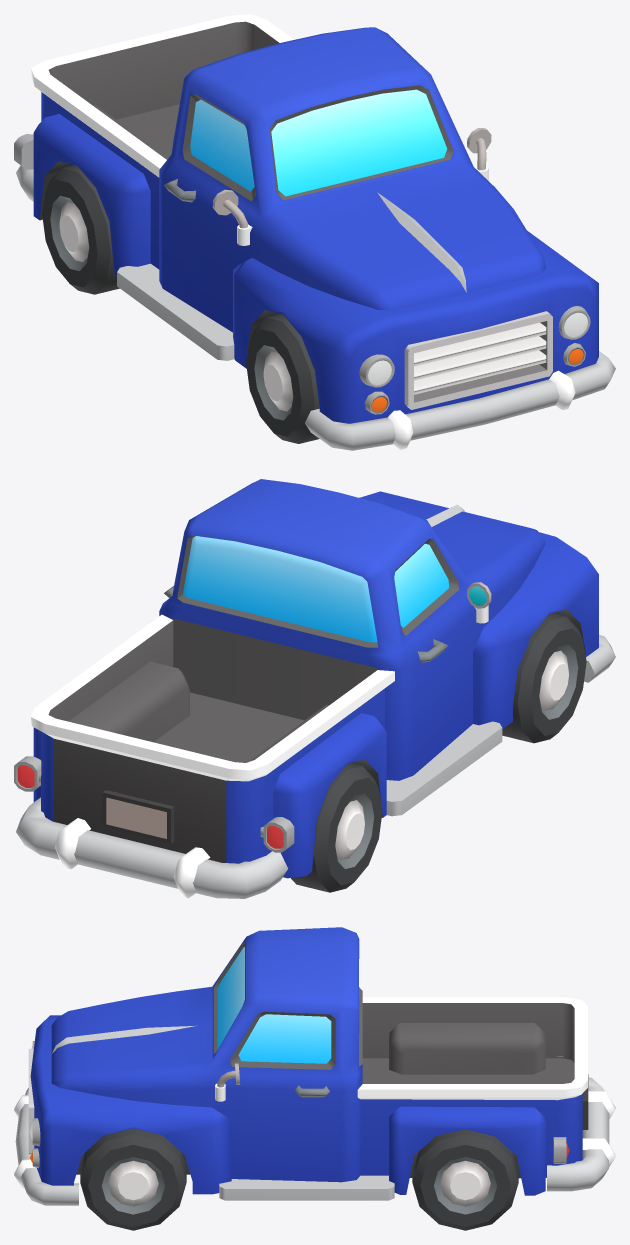
The model's file is city2-car-16.glb.
The picture shows the model from 3 angles, top to bottom: view 1: azimuth 30°, elevation 25°; view 2: azimuth 150°, elevation 25°; view 3: azimuth 270°, elevation 25°; orthographic projection. The views are drawn at different scales.
Visible parts, largest first — view 1: Car_16, Wheel_162, Wheel_161; view 2: Car_16, Wheel_161, Wheel_162; view 3: Car_16, Wheel_163, Wheel_164.
Part boxes in pixels (<box>): Car_16: <box>14,14,615,450</box>; Wheel_162: <box>42,165,119,294</box>; Wheel_161: <box>246,314,319,443</box>; Car_16: <box>14,479,615,898</box>; Wheel_161: <box>502,613,586,743</box>; Wheel_162: <box>291,763,382,892</box>; Car_16: <box>14,927,615,1205</box>; Wheel_163: <box>80,1128,186,1230</box>; Wheel_164: <box>412,1129,518,1230</box>.
Bounding box in the file's own units: 2.17 × 1.93 × 4.79.
2 materials, 2 textured.
